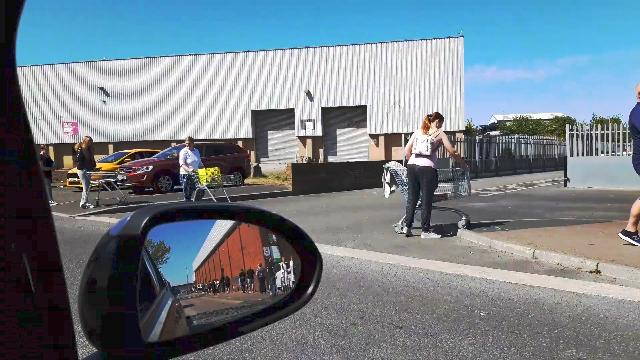berdiri: (400, 103, 460, 250)
